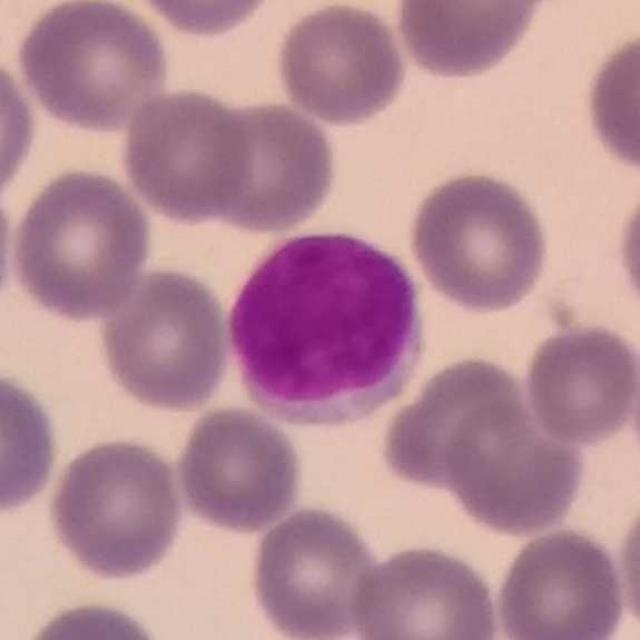Lymphocyte: (222, 222, 428, 428)
RBC: (439, 375, 591, 541), (5, 162, 156, 323), (378, 350, 536, 498), (405, 166, 554, 316), (43, 433, 187, 584), (93, 262, 235, 415), (14, 0, 172, 136), (198, 95, 342, 236), (118, 83, 257, 226), (246, 501, 386, 640), (272, 0, 411, 128), (173, 403, 307, 535), (492, 524, 629, 640), (346, 540, 504, 640), (521, 320, 640, 448), (391, 0, 553, 85), (0, 365, 63, 518), (580, 24, 640, 180), (13, 596, 169, 640), (0, 51, 41, 204), (126, 0, 276, 40), (613, 174, 640, 328), (613, 481, 640, 635), (626, 327, 640, 490)
